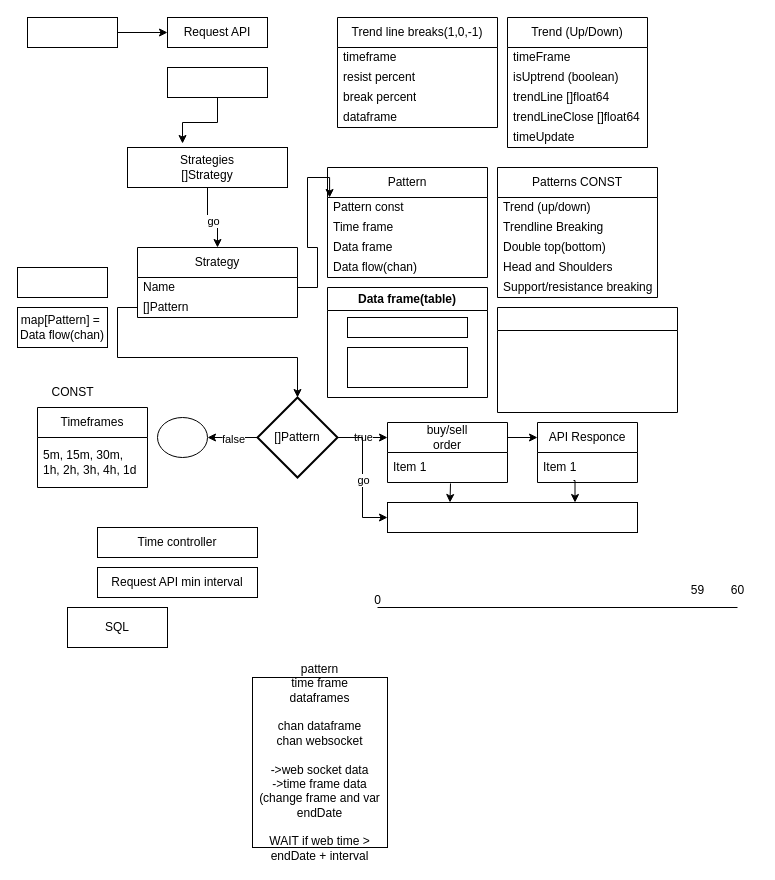
This 775x880 diagram has some shape labels left out. Each missing label, with the centre of its shape:
Data frame update: the point at 587,359
Database: the point at 407,327
end: the point at 182,437
Flow data (webSocket): the point at 407,367
SQL Database: the point at 512,517
time start: the point at 72,32
update DB: the point at 217,82
Web Socket: the point at 62,282
